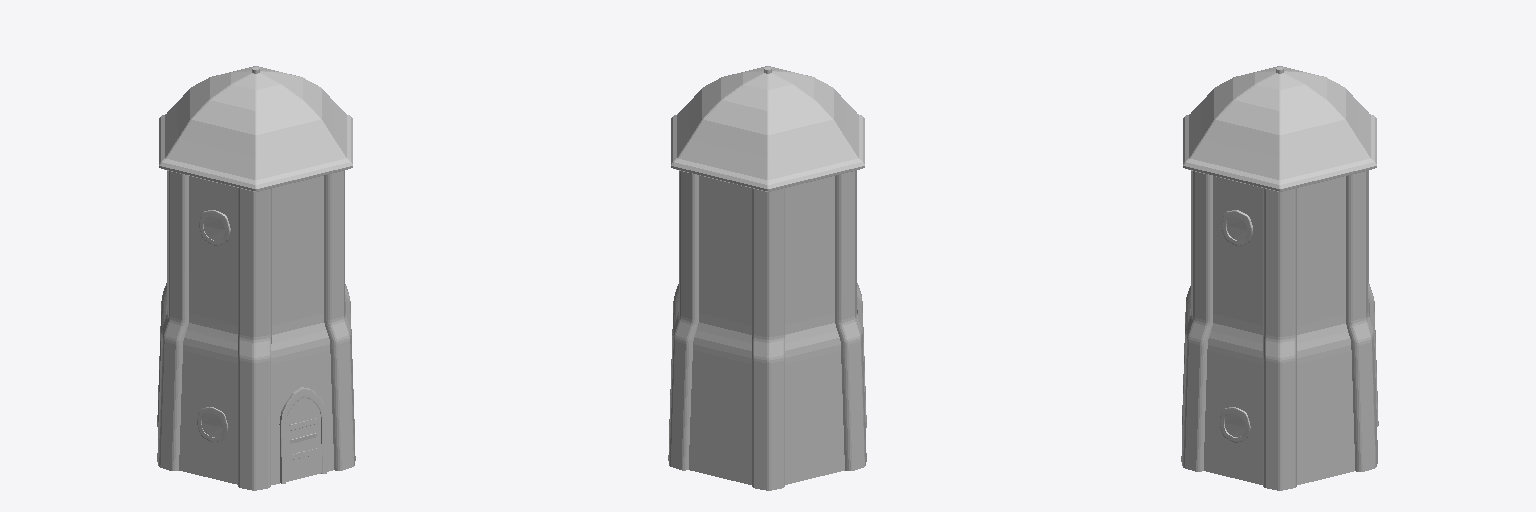
Rendered from SM_villaA.obj.
3 views of the same model, side by side, from view 1: azimuth 30°, elevation 25°; view 2: azimuth 150°, elevation 25°; view 3: azimuth 270°, elevation 25° (orthographic).
Visible parts, largest first — view 1: tour_base, poutres_cote, tour_toit, porte_planche_tour, fenetre_cadres_tour, porte_cadre; view 2: tour_base, poutres_cote, tour_toit; view 3: tour_base, poutres_cote, tour_toit, fenetre_cadres_tour, fenetre_planches.
Part boxes in pixels (x1,y1,x2,y2): tour_base: (166, 176, 345, 484); poutres_cote: (157, 171, 355, 490); tour_toit: (159, 66, 352, 191); porte_planche_tour: (285, 398, 321, 481); fenetre_cadres_tour: (197, 210, 230, 441); porte_cadre: (279, 387, 326, 483); tour_base: (678, 175, 857, 484); poutres_cote: (668, 171, 866, 490); tour_toit: (671, 66, 864, 191); tour_base: (1190, 176, 1369, 484); poutres_cote: (1181, 171, 1378, 490); tour_toit: (1183, 66, 1376, 191); fenetre_cadres_tour: (1220, 210, 1252, 442); fenetre_planches: (1225, 217, 1247, 436).
Bounding box in the file's own units: 5.73 × 10.61 × 5.05.